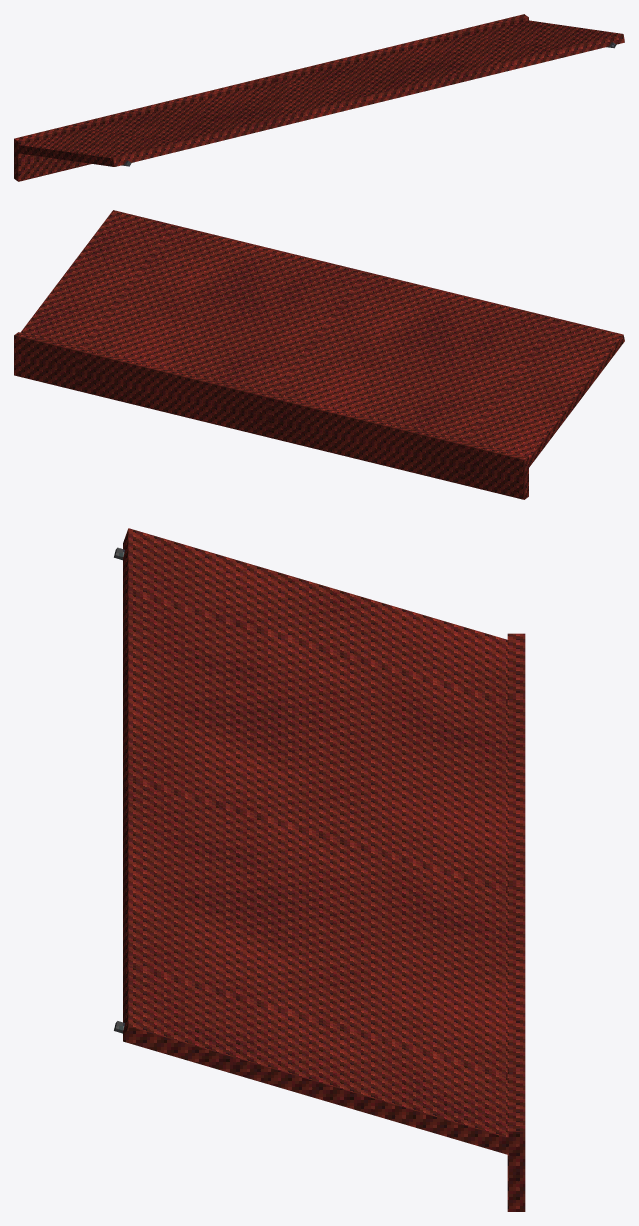
File: ext_awning.glb
3 renders of one model, top to bottom at view 1: azimuth 30°, elevation 25°; view 2: azimuth 150°, elevation 25°; view 3: azimuth 270°, elevation 25°, orthographic. The views are drawn at different scales.
Parts seen in each view (by area): view 1: ext_awning_mesh; view 2: ext_awning_mesh; view 3: ext_awning_mesh.
Part boxes in pixels (x1,y1,x2,y2): ext_awning_mesh: [14, 14, 624, 181]; ext_awning_mesh: [14, 210, 624, 499]; ext_awning_mesh: [114, 528, 525, 1211].
Bounding box in the file's own units: 4 × 0.6948 × 1.4.
Materials: 2 (2 with a texture image).
